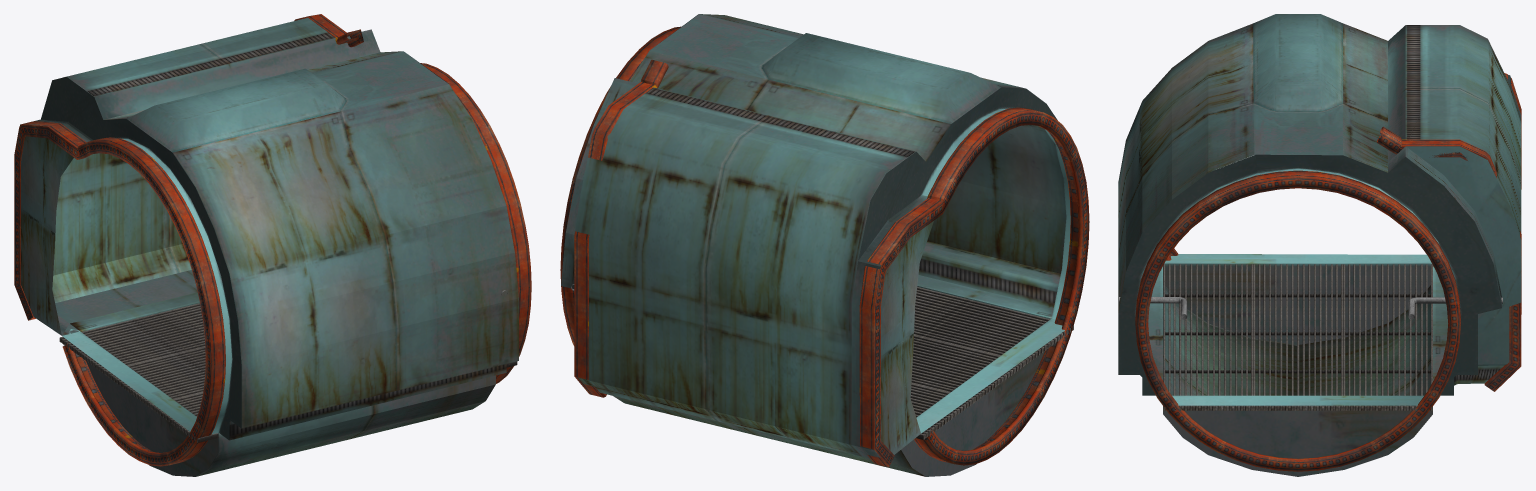
The model's file is tau_tunnel_straight_short_large_door.dae.
3 views of the same model, side by side, from view 1: azimuth 30°, elevation 25°; view 2: azimuth 150°, elevation 25°; view 3: azimuth 270°, elevation 25° (orthographic). The views are drawn at different scales.
Parts seen in each view (by area): view 1: pCylinder92, pPipe67, polySurface237, pPipe66, polySurface236, polySurface235, pPipe68; view 2: pCylinder92, pPipe67, polySurface235, pPipe68, polySurface236, pPipe66, polySurface237; view 3: pCylinder92, pPipe66, polySurface236, polySurface237, polySurface235, pPipe68, polySurface675.
Boxes of the visible parts, box(x1,y1,x2,y2) form: pCylinder92: box(14, 18, 518, 476); pPipe67: box(14, 121, 225, 466); polySurface237: box(59, 303, 205, 374); pPipe66: box(420, 63, 531, 383); polySurface236: box(105, 347, 205, 408); polySurface235: box(152, 361, 517, 442); pPipe68: box(294, 14, 363, 47); pCylinder92: box(561, 14, 1070, 476); pPipe67: box(859, 107, 1089, 467); polySurface235: box(914, 287, 1073, 366); pPipe68: box(574, 59, 668, 397); polySurface236: box(911, 335, 1023, 402); pPipe66: box(560, 26, 680, 345); polySurface237: box(910, 383, 973, 439); pCylinder92: box(1118, 14, 1521, 476); pPipe66: box(1135, 170, 1460, 471); polySurface236: box(1253, 264, 1342, 410); polySurface237: box(1343, 264, 1432, 410); polySurface235: box(1163, 264, 1253, 410); pPipe68: box(1377, 126, 1521, 391); polySurface675: box(1119, 297, 1502, 319).
Bounding box in the file's own units: 4 × 4.16 × 4.49.
